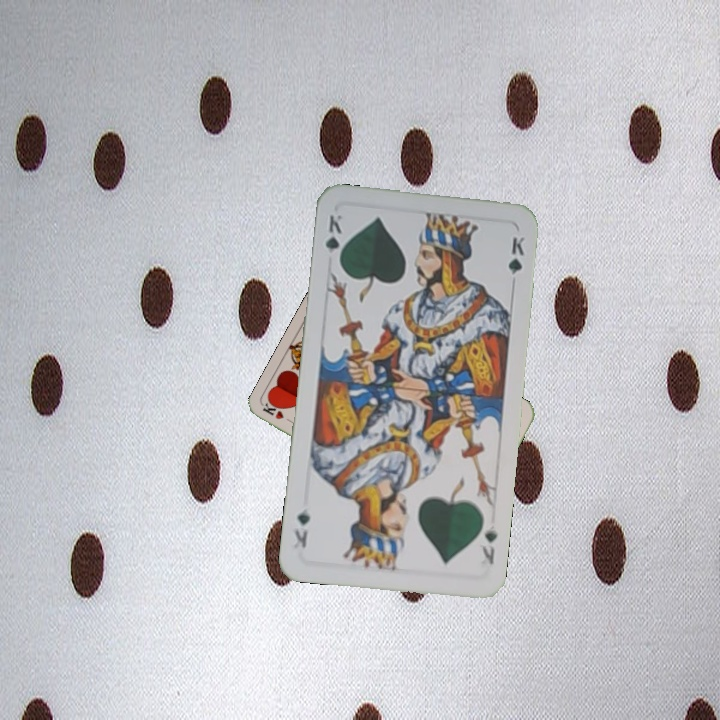GK: (321, 210, 345, 268), (475, 521, 500, 567)
HK: (259, 399, 298, 427)
